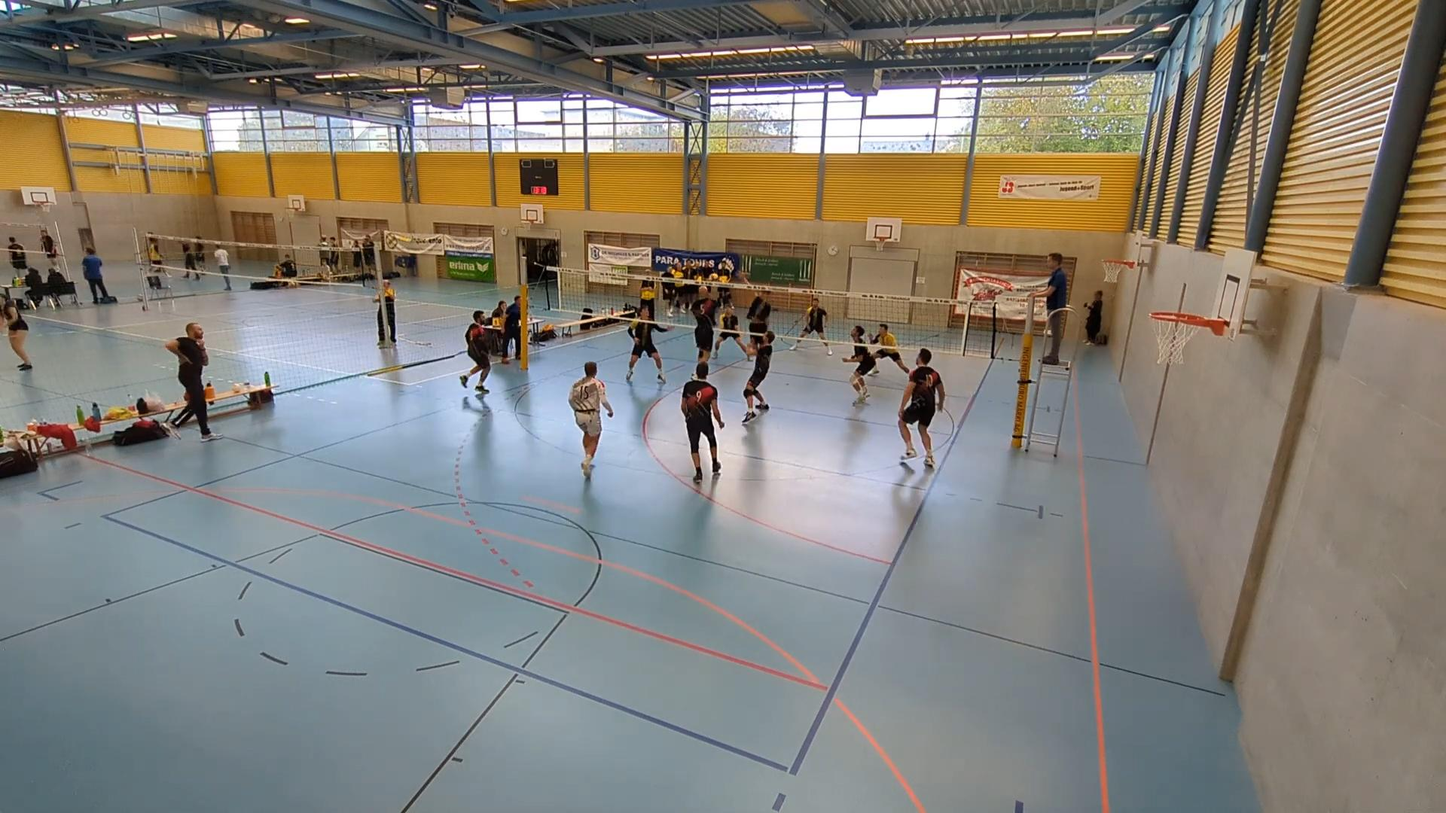attacco: (684, 275, 723, 378)
